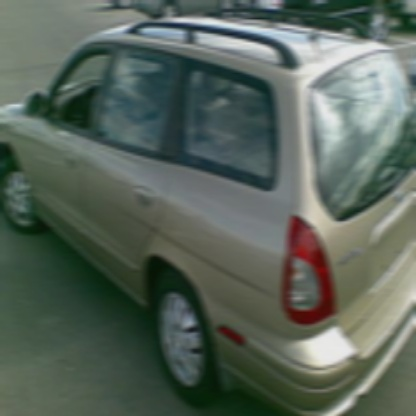Vehicle: (1, 13, 415, 414)
